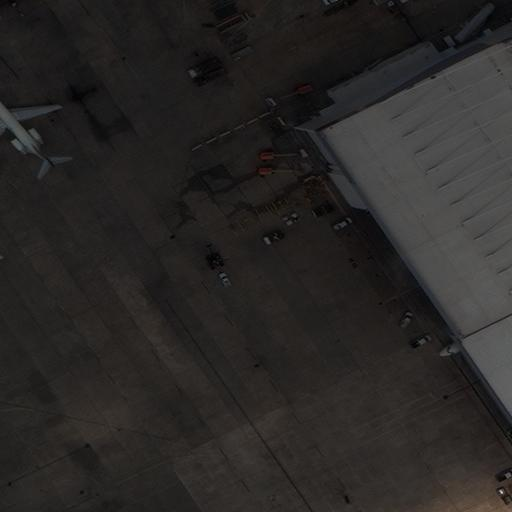Medium Civil Transport: (0, 83, 57, 170)
